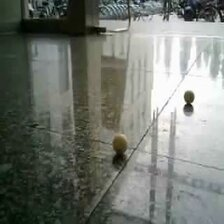w: (111, 133, 130, 154), (184, 89, 195, 104)
